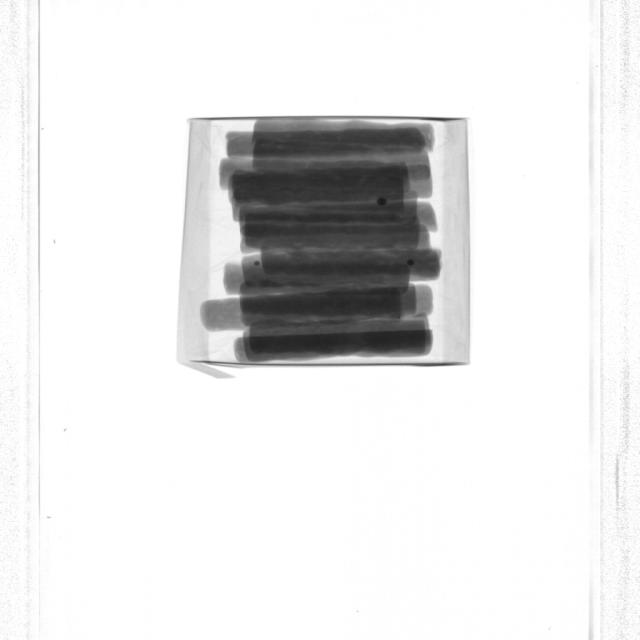ym: (378, 197, 388, 206), (408, 259, 416, 266), (255, 261, 260, 266), (398, 315, 402, 319)
